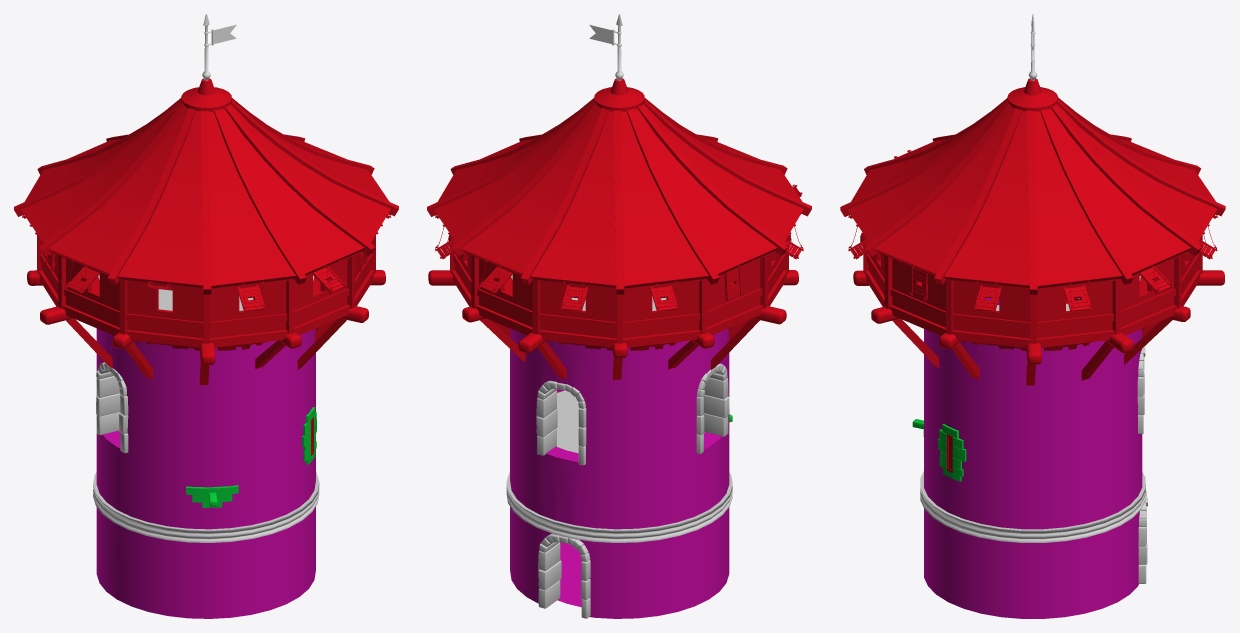
Rendered from Tower_6.fbx.
The picture shows the model from 3 angles, left to right: view 1: azimuth 30°, elevation 25°; view 2: azimuth 150°, elevation 25°; view 3: azimuth 270°, elevation 25°; orthographic projection.
Visible parts, largest first — view 1: Group_4.007, Tower_1.004, Group_2, Group_2.007, Group_4.011; view 2: Group_4.007, Tower_1.004, Group_4.011; view 3: Group_4.007, Tower_1.004, Group_2.007.
Boxes of the visible parts, box(x1,y1,x2,y2) form: Group_4.007: box(14, 78, 398, 385); Tower_1.004: box(93, 328, 319, 618); Group_2: box(186, 485, 238, 507); Group_2.007: box(302, 407, 316, 464); Group_4.011: box(202, 14, 236, 80); Group_4.007: box(427, 78, 811, 379); Tower_1.004: box(506, 328, 732, 618); Group_4.011: box(589, 14, 623, 80); Group_4.007: box(840, 78, 1225, 385); Tower_1.004: box(920, 297, 1147, 618); Group_2.007: box(938, 424, 966, 481).
Bounding box in the file's own units: 1138 × 1813 × 1133.
